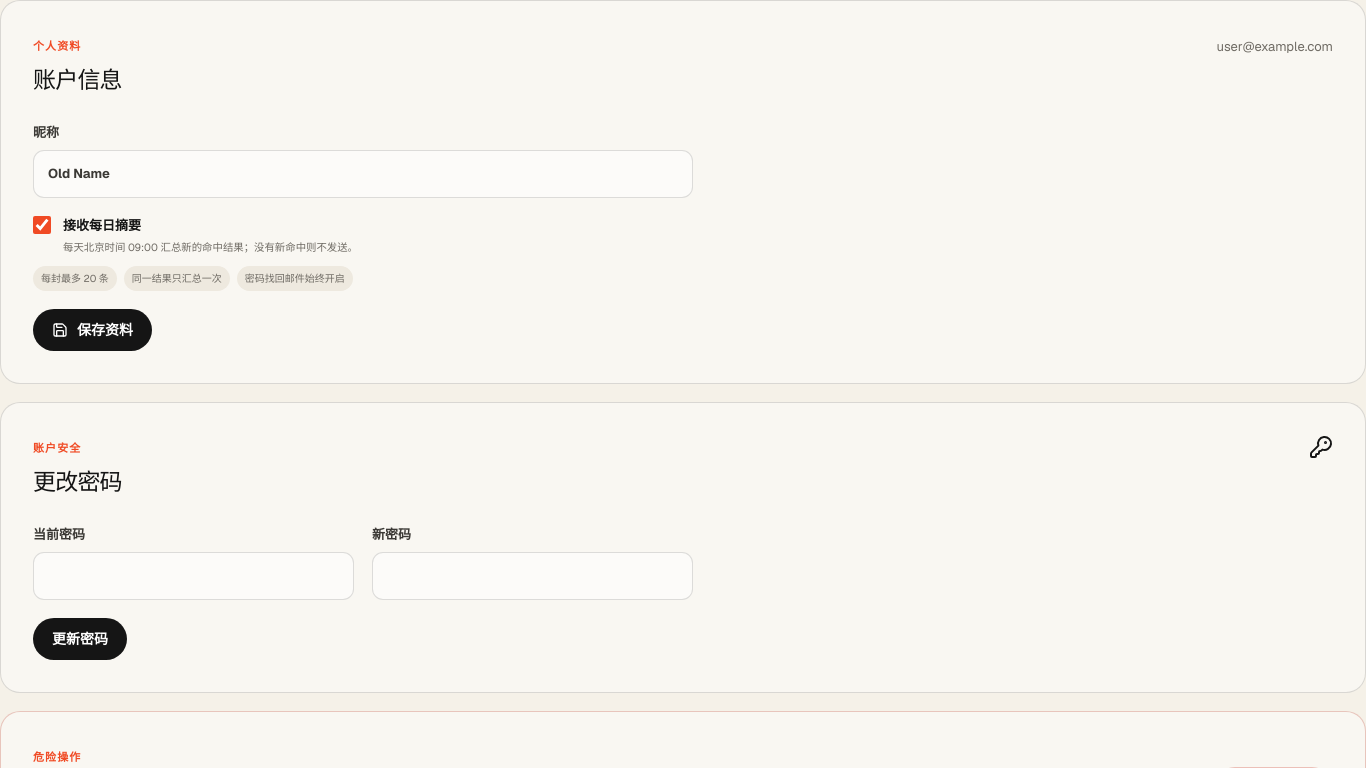
Scenario: ProfileSettings › counts Unicode replacement-password length by characters
Expected: the field labelled "昵称" is shown, [33, 150, 693, 198]
In the password field labelled "当前密码": (194, 576) [33, 552, 354, 600], type "old password"
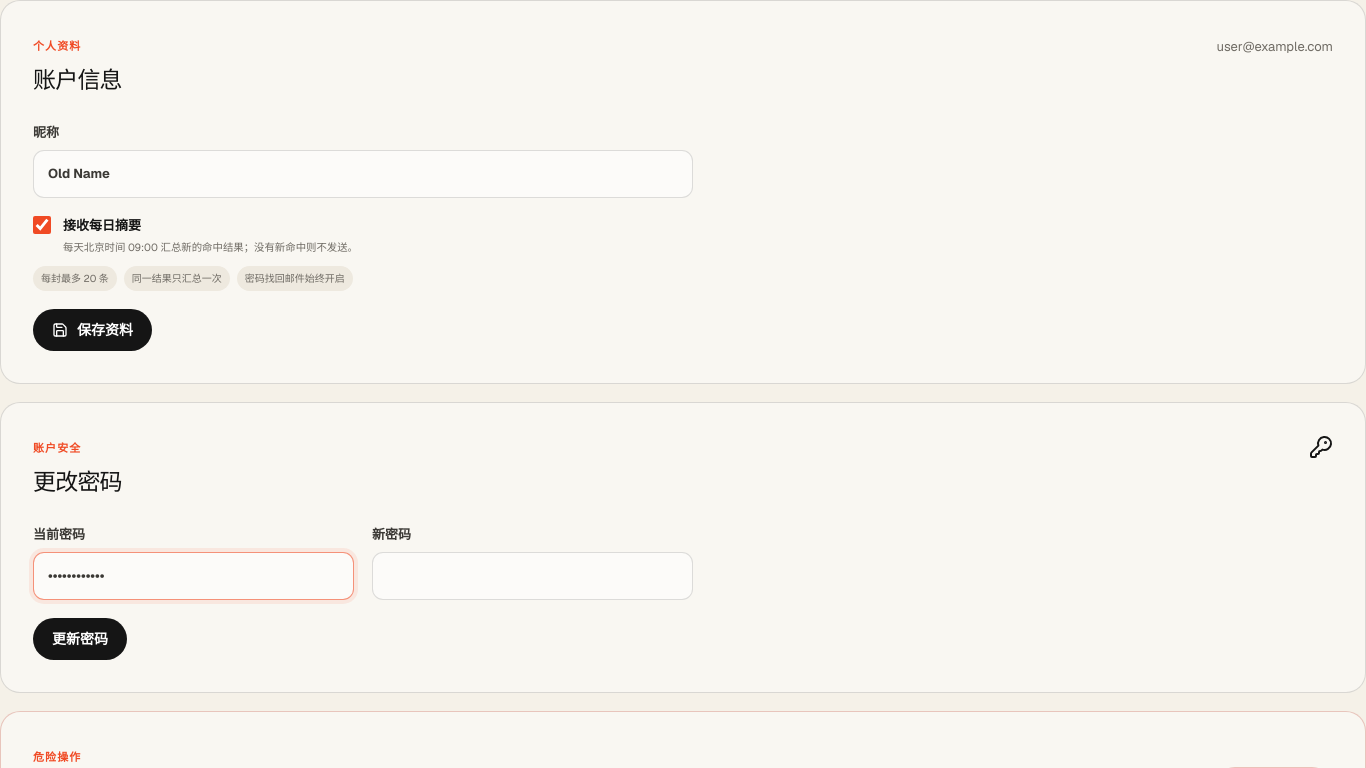
In the password field labelled "新密码": (532, 576) [372, 552, 693, 600], type "🙂🙂🙂"
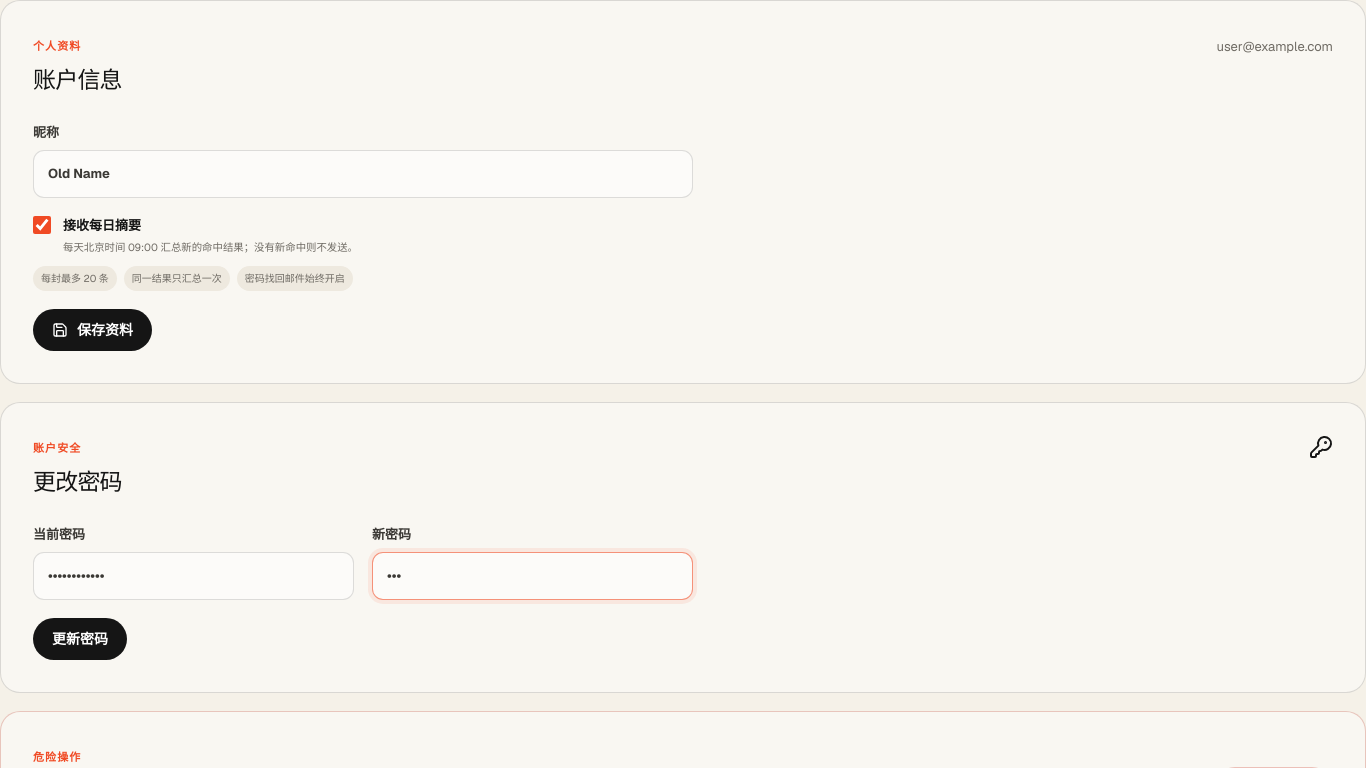
Click the button "更新密码": click(80, 639) [33, 618, 127, 660]
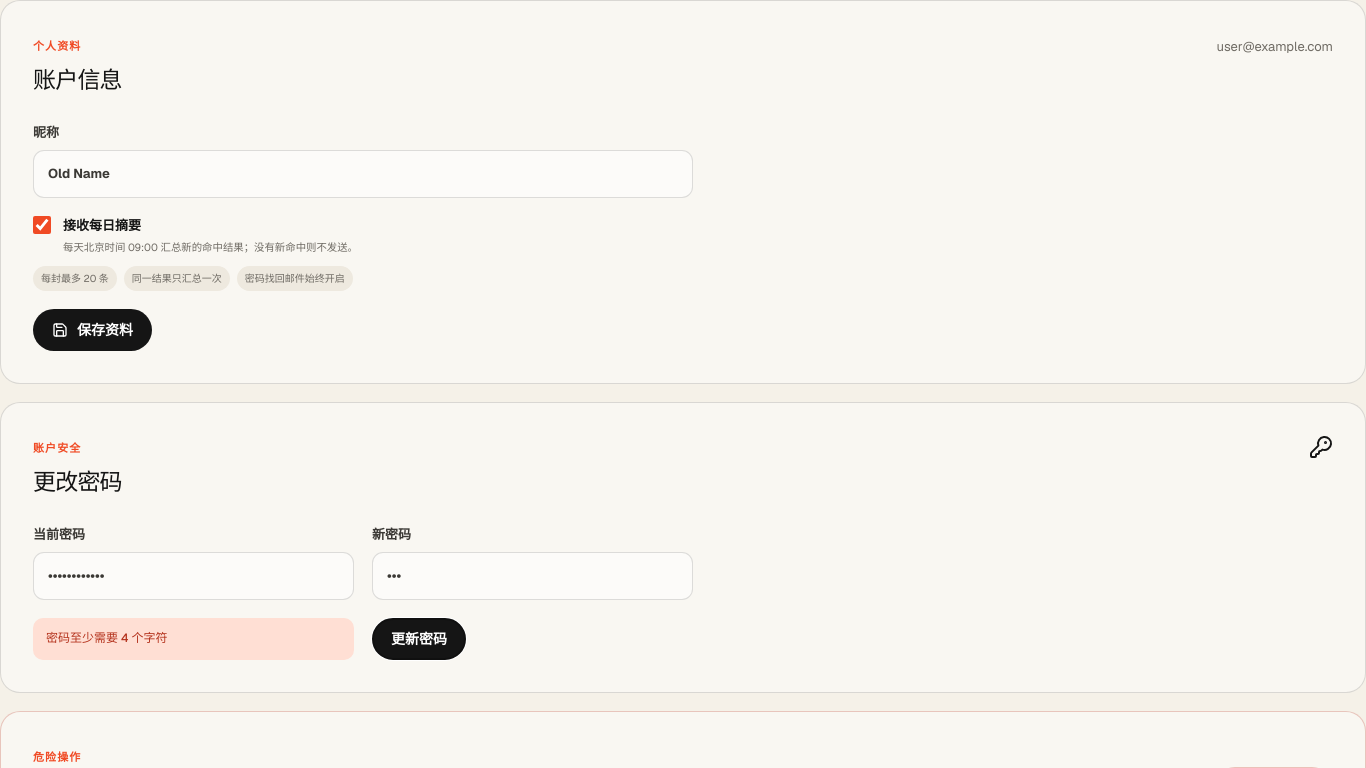
Expected: the text "密码至少需要 4 个字符" is shown, [33, 618, 354, 660]
